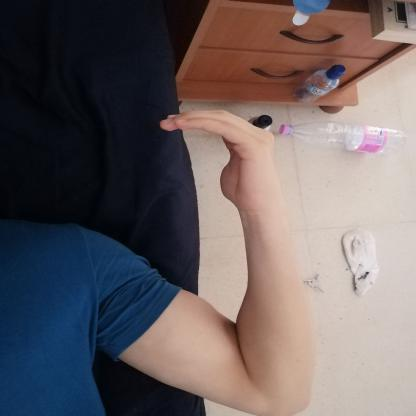HAA: (144, 100, 296, 217)
